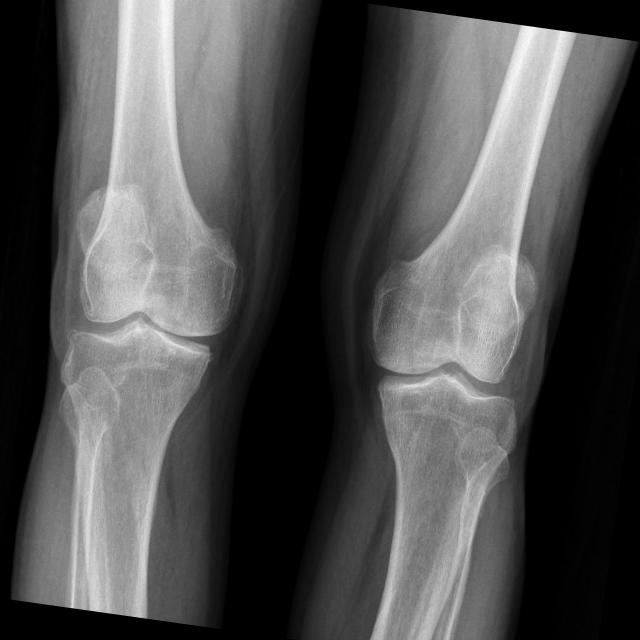Knee: (56, 237, 240, 407), (350, 294, 534, 456)
